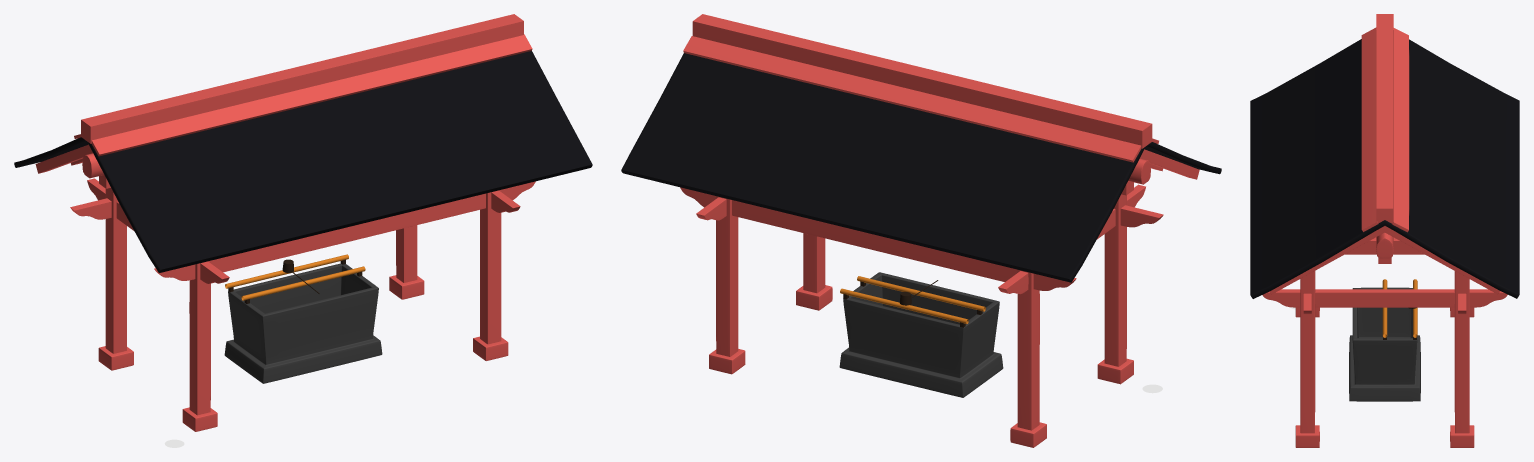
Rendered from Japanese_Shire.fbx.
3 views of the same model, side by side, from view 1: azimuth 30°, elevation 25°; view 2: azimuth 150°, elevation 25°; view 3: azimuth 270°, elevation 25° (orthographic). The views are drawn at different scales.
Parts seen in each view (by area): view 1: Object_3, Object_7, Object_2, Object_8, Object_5, Object_9; view 2: Object_3, Object_7, Object_2, Object_5, Object_8, Object_9; view 3: Object_3, Object_7, Object_2, Object_8, Object_5, Object_9.
Part boxes in pixels (x1,y1,x2,y2): Object_3: (14, 51, 592, 272); Object_7: (35, 134, 535, 431); Object_2: (224, 263, 382, 383); Object_8: (91, 34, 532, 353); Object_5: (81, 14, 523, 143); Object_9: (225, 254, 365, 300); Object_3: (621, 53, 1221, 282); Object_7: (680, 36, 1163, 447); Object_2: (839, 272, 1003, 397); Object_5: (692, 14, 1152, 148); Object_8: (709, 138, 1199, 430); Object_9: (840, 276, 985, 323); Object_3: (1250, 39, 1519, 298); Object_7: (1262, 28, 1507, 447); Object_2: (1349, 287, 1420, 401); Object_8: (1270, 27, 1474, 447); Object_5: (1376, 14, 1393, 223); Object_9: (1382, 279, 1417, 337).
Size of the model in its own units: 5090 by 3312 by 2960.
